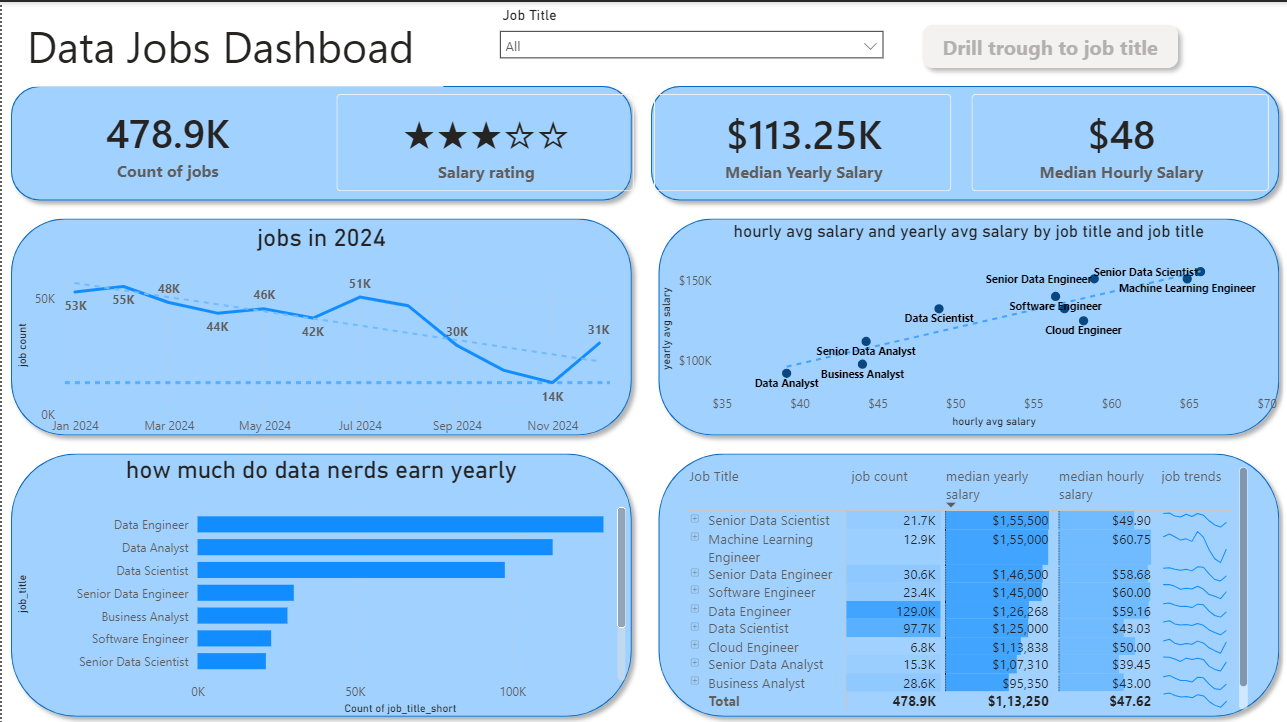

The page's visual inventory and layout, read from the dashboard file:
{"tool":"powerbi","page":{"name":"Dashboard","canvas":[1280,720],"ordinal":0},"visuals":[{"type":"slicer","fields":{"Values":["job_postings_flat.job_title_short"]},"box":[485.1,0,401.8,74.6],"z":0,"group":"g1"},{"type":"group","id":"g1","title":"Group 1","box":[0,0,1280,720.3],"z":1},{"type":"textbox","box":[20,10,419.2,74.6],"z":2},{"type":"cardVisual","fields":{"Data":["CountNonNull(job_postings_flat.job_title_short)","job_postings_flat.Median of salary_year_avg star rating","Median(job_postings_flat.salary_year_avg)","Median(job_postings_flat.salary_hour_avg)"]},"box":[0,74.6,1280,131.9],"z":3},{"type":"lineChart","title":"jobs in 2024","fields":{"Category":["job_postings_flat.job_posted_date.Variation.Date Hierarchy.Year","job_postings_flat.job_posted_date.Variation.Date Hierarchy.Quarter","job_postings_flat.job_posted_date.Variation.Date Hierarchy.Month","job_postings_flat.job_posted_date.Variation.Date Hierarchy.Day"],"Y":["CountNonNull(job_postings_flat.job_title_short)"]},"box":[10,220.2,615.8,220.2],"z":4},{"type":"clusteredBarChart","title":"how much do data nerds earn yearly","fields":{"Category":["job_postings_flat.job_title_short"],"Y":["CountNonNull(job_postings_flat.job_title_short)"]},"box":[10,451.6,615.8,262.5],"z":5},{"type":"scatterChart","fields":{"Category":["job_postings_flat.job_title_short"],"X":["Avg(job_postings_flat.salary_hour_avg)"],"Y":["Avg(job_postings_flat.salary_year_avg)"],"Series":["job_postings_flat.job_title_short"]},"box":[650.6,217.7,623.2,210.2],"z":6},{"type":"pivotTable","fields":{"Rows":["job_postings_flat.job_title_short","job_postings_flat.job_posted_date.Variation.Date Hierarchy.Quarter"],"Values":["CountNonNull(job_postings_flat.job_title_short)","Median(job_postings_flat.salary_year_avg)","Median(job_postings_flat.salary_hour_avg)","SparklineData(CountNonNull(job_postings_flat.job_title_short)_[job_postings_flat.job_posted_date.Variation.Date Hierarch"]},"box":[674.2,457.8,571,251.3],"z":7},{"type":"actionButton","box":[906.8,13.7,272.4,61],"z":9},{"type":"shape","box":[0,74.6,635.7,131.9],"z":1000,"group":"g1"},{"type":"shape","box":[636.9,74.6,643.1,131.9],"z":2000,"group":"g1"},{"type":"shape","box":[0,206.5,635.7,233.9],"z":3000,"group":"g1"},{"type":"shape","box":[644.4,206.5,635.7,233.9],"z":4000,"group":"g1"},{"type":"shape","box":[0,440.4,635.7,279.9],"z":5000,"group":"g1"},{"type":"shape","box":[644.4,440.4,635.7,279.9],"z":6000,"group":"g1"}]}

Visuals, with their boxes in screenshot pixels (x1, y1, x2, y2), scaled from the page's 1280x720 canvas onto the 1287x722 screenshot:
slicer - job_postings_flat.job_title_short: Rect(488, 0, 892, 75)
"Group 1" group: Rect(0, 0, 1286, 721)
textbox: Rect(20, 10, 442, 85)
cardVisual - CountNonNull(job_postings_flat.job_title_short) x job_postings_flat.Median of salary_year_avg star rating: Rect(0, 75, 1286, 207)
"jobs in 2024" lineChart: Rect(10, 221, 629, 442)
"how much do data nerds earn yearly" clusteredBarChart: Rect(10, 453, 629, 716)
scatterChart - job_postings_flat.job_title_short x Avg(job_postings_flat.salary_hour_avg): Rect(654, 218, 1281, 429)
pivotTable - job_postings_flat.job_title_short x job_postings_flat.job_posted_date.Variation.Date Hierarchy.Quarter: Rect(678, 459, 1252, 711)
actionButton: Rect(912, 14, 1186, 75)
shape: Rect(0, 75, 639, 207)
shape: Rect(640, 75, 1286, 207)
shape: Rect(0, 207, 639, 442)
shape: Rect(648, 207, 1286, 442)
shape: Rect(0, 442, 639, 721)
shape: Rect(648, 442, 1286, 721)
